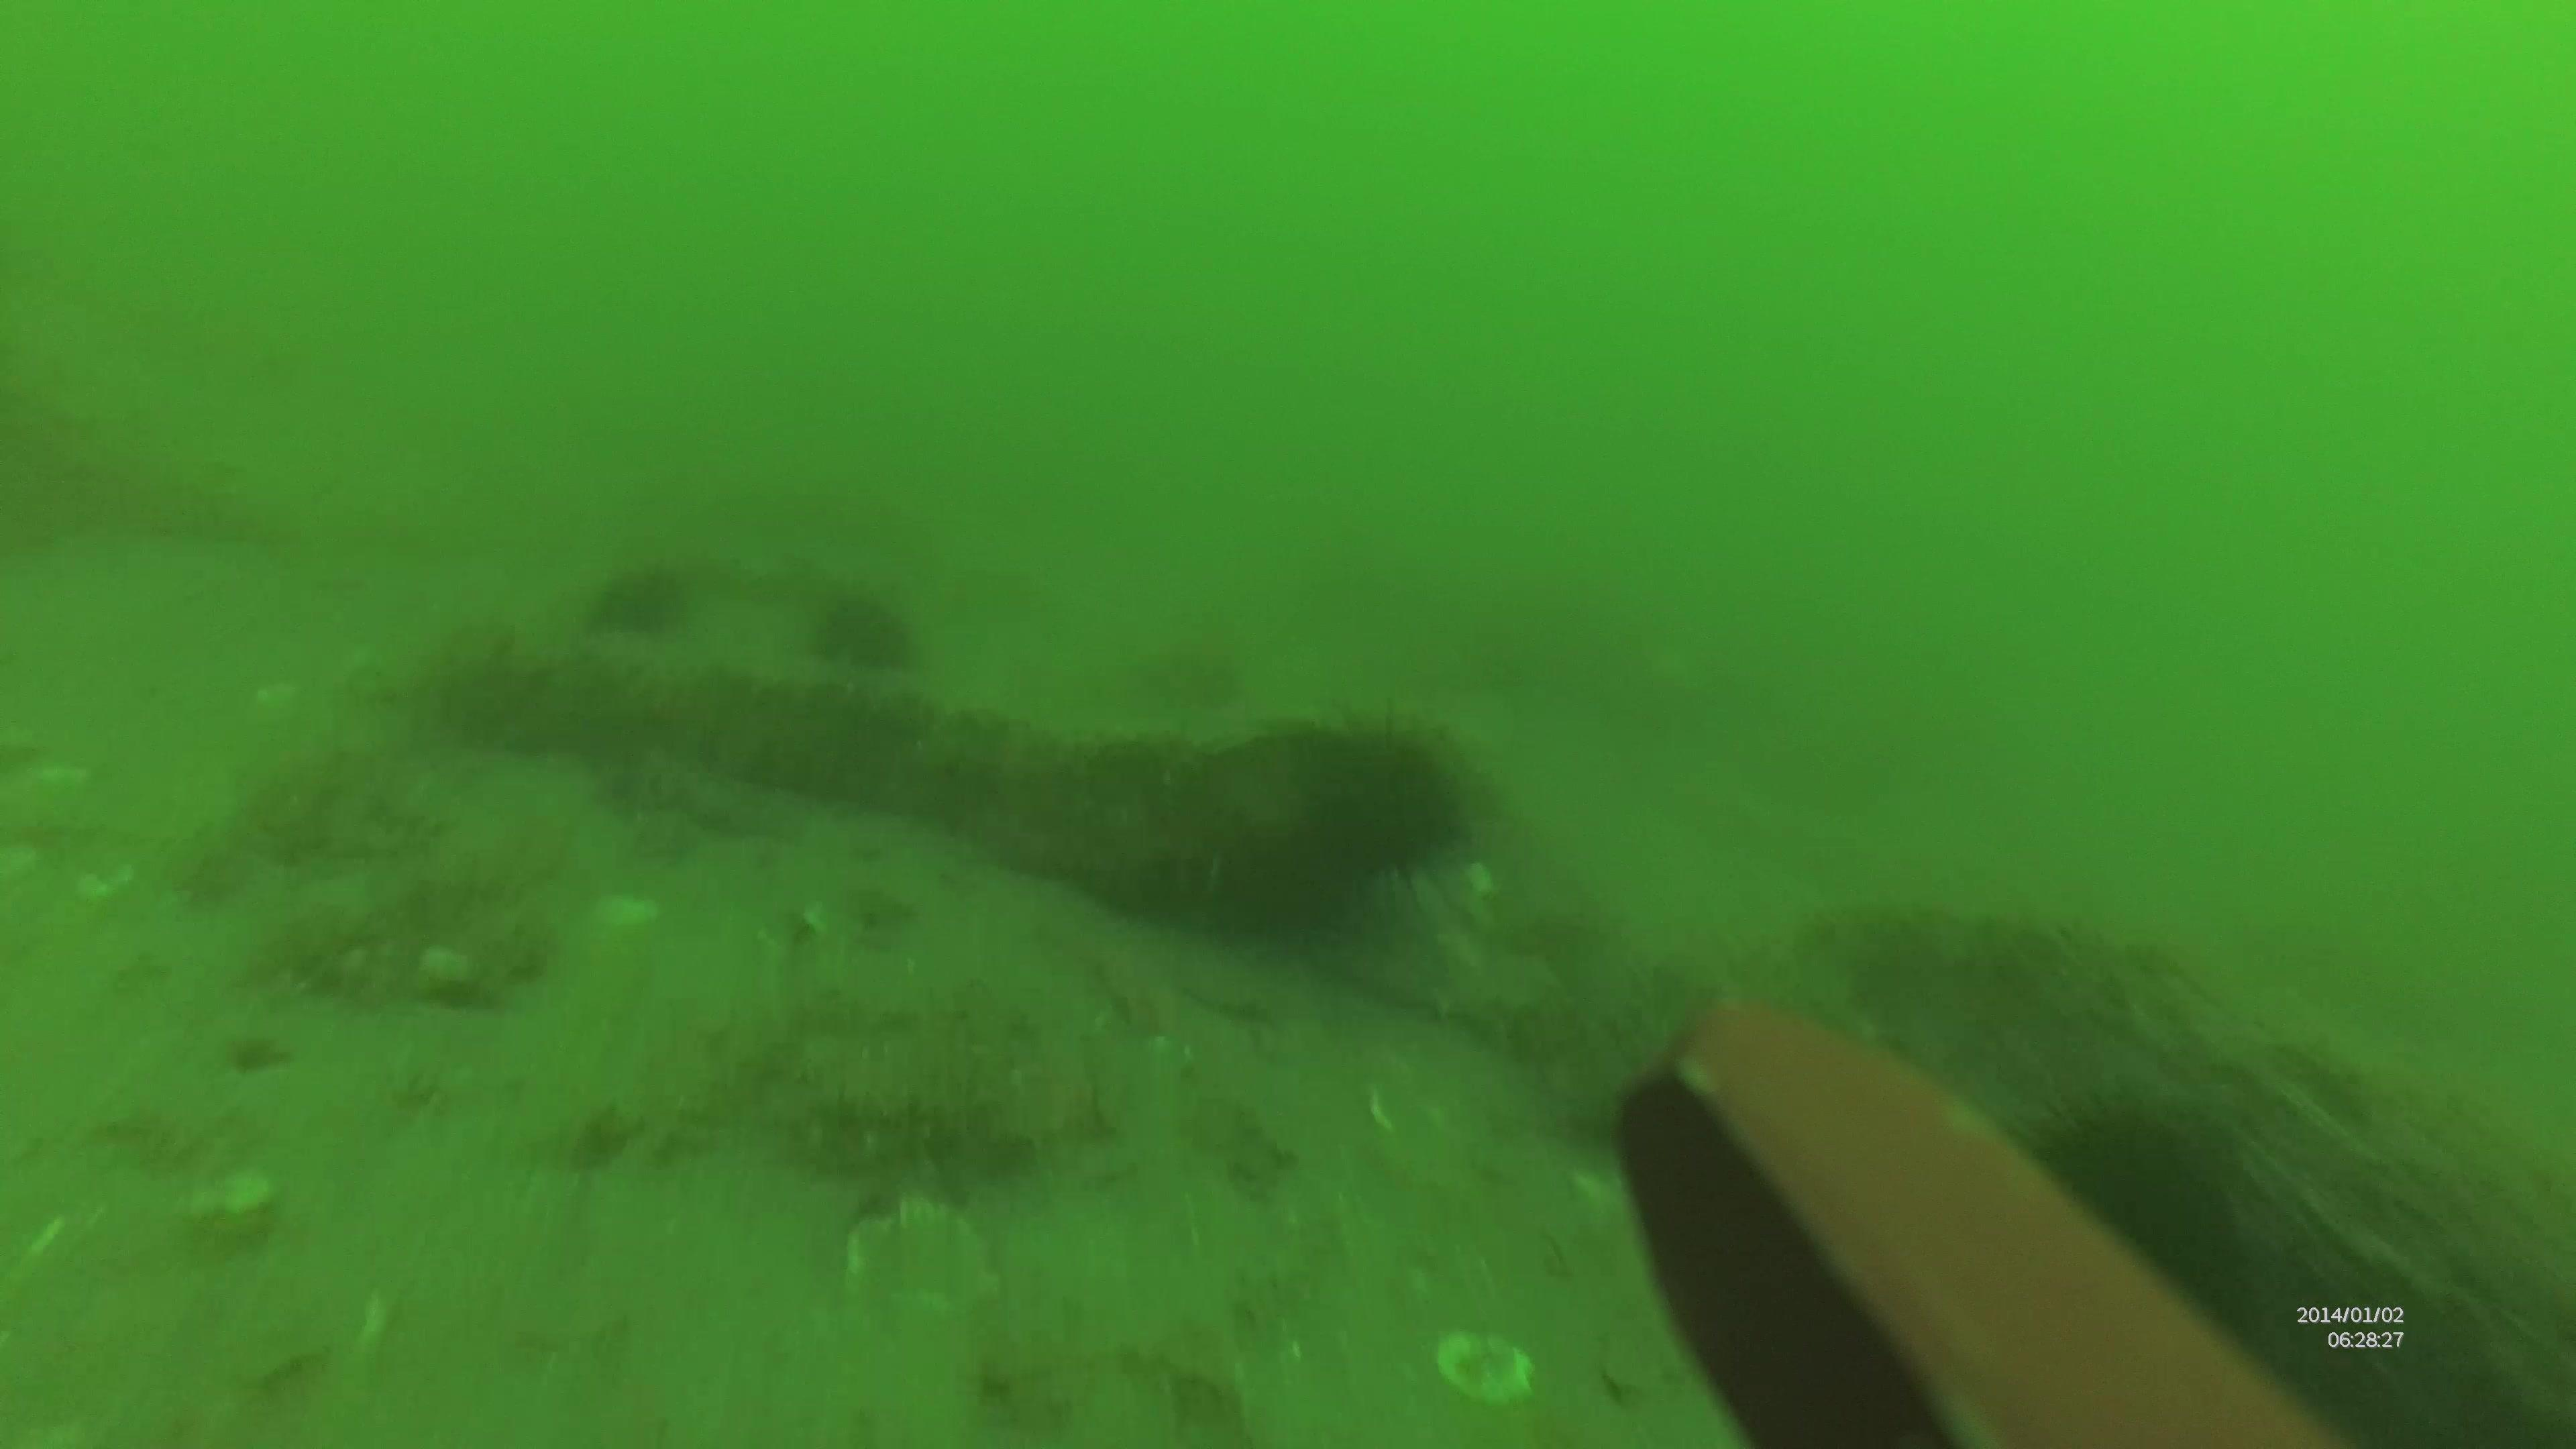echinus: (1290, 709, 1491, 897), (803, 589, 922, 674), (594, 577, 672, 646)
